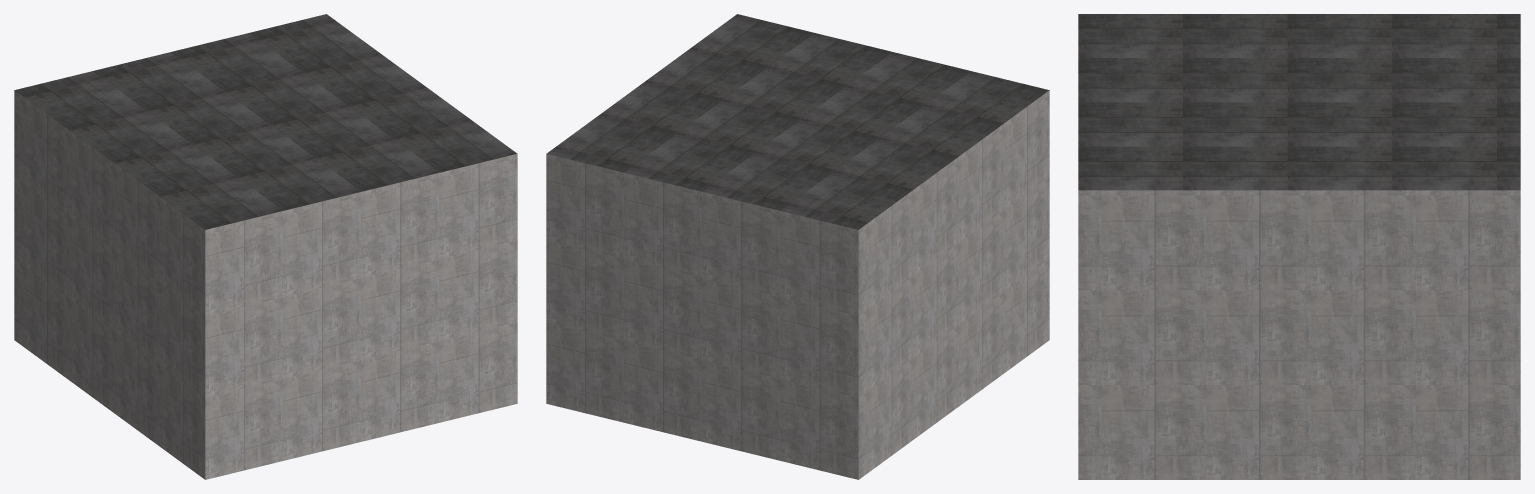
File: living_room_interior_free.glb
3 renders of one model, left to right at view 1: azimuth 30°, elevation 25°; view 2: azimuth 150°, elevation 25°; view 3: azimuth 270°, elevation 25°, orthographic. The views are drawn at different scales.
Visible parts, largest first — view 1: Plane.001_Material.001_0, Plane.004_Material.002_0; view 2: Plane.001_Material.001_0, Plane.004_Material.002_0; view 3: Plane.001_Material.001_0, Plane.004_Material.002_0.
Boxes of the visible parts, x1,y1,x2,y2 form: Plane.001_Material.001_0: (14, 90, 517, 479); Plane.004_Material.002_0: (14, 14, 517, 229); Plane.001_Material.001_0: (546, 90, 1049, 479); Plane.004_Material.002_0: (546, 14, 1049, 229); Plane.001_Material.001_0: (1078, 190, 1520, 479); Plane.004_Material.002_0: (1078, 14, 1520, 190).
Size of the model in its own units: 29.93 by 22.9 by 31.7.
Materials: 3 (2 with a texture image).
